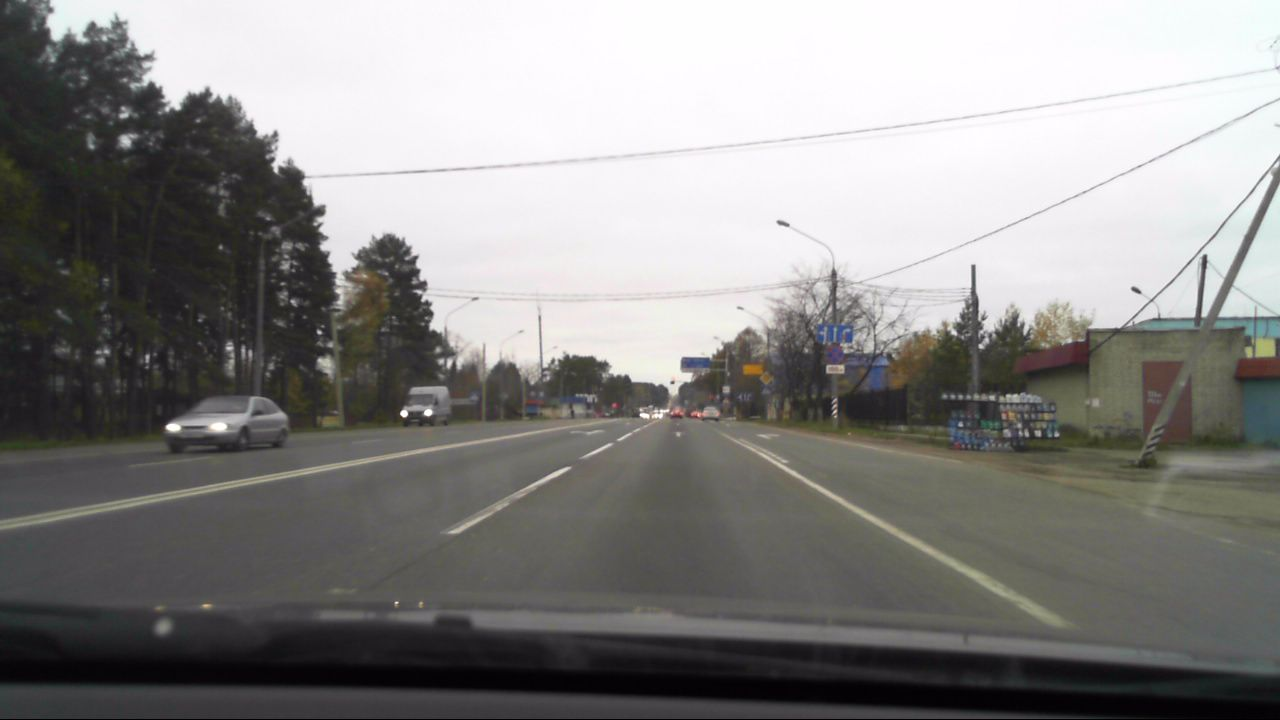No Parking: (825, 344, 845, 363)
